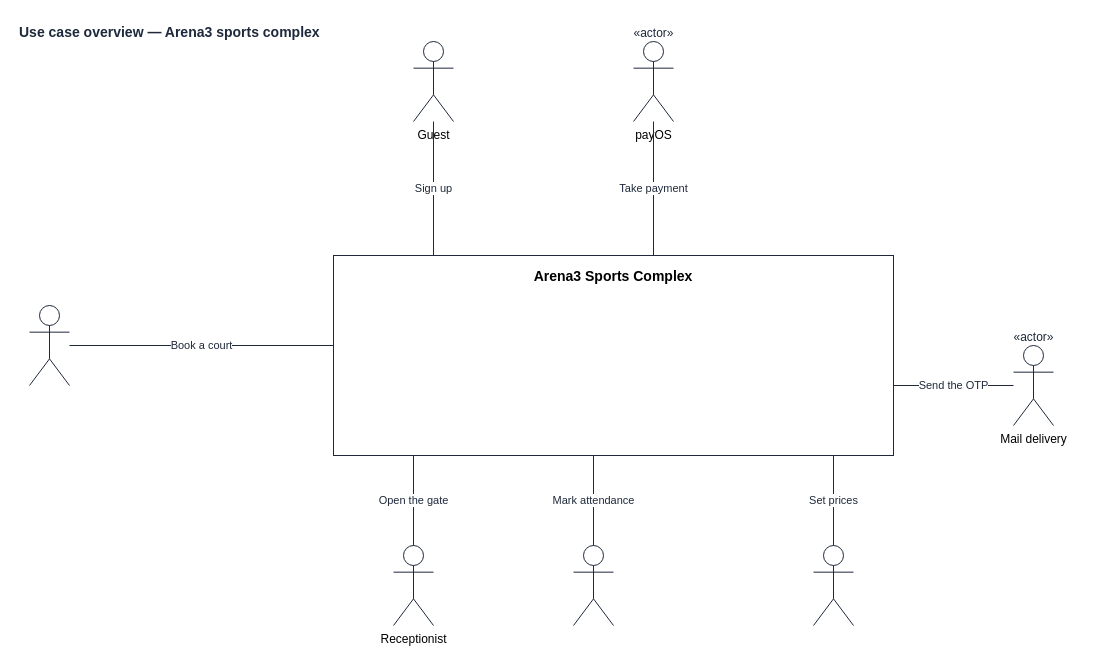
The diagram is 1110 pixels wide and 663 high, and some of its shapes have lost their labels. The centre of each missing label's shape, as x and y in pixels:
"Coach" belongs at (593,585).
"Manager" belongs at (833,585).
"Member" belongs at (49,345).
